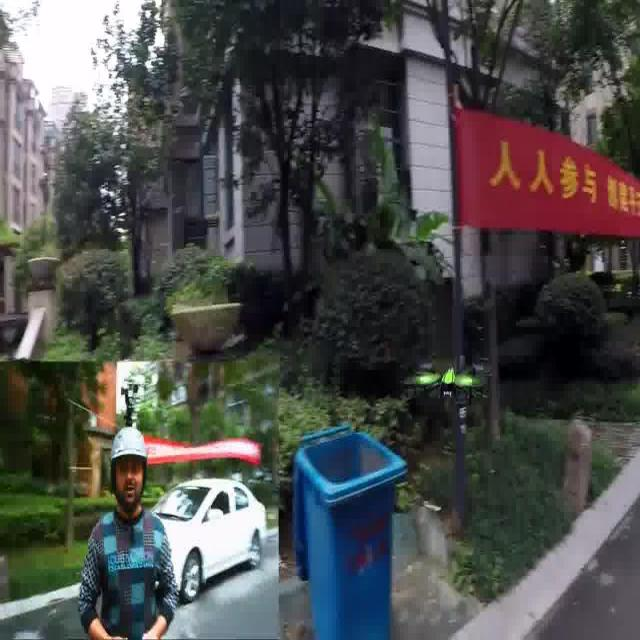drone: (392, 342, 494, 430)
